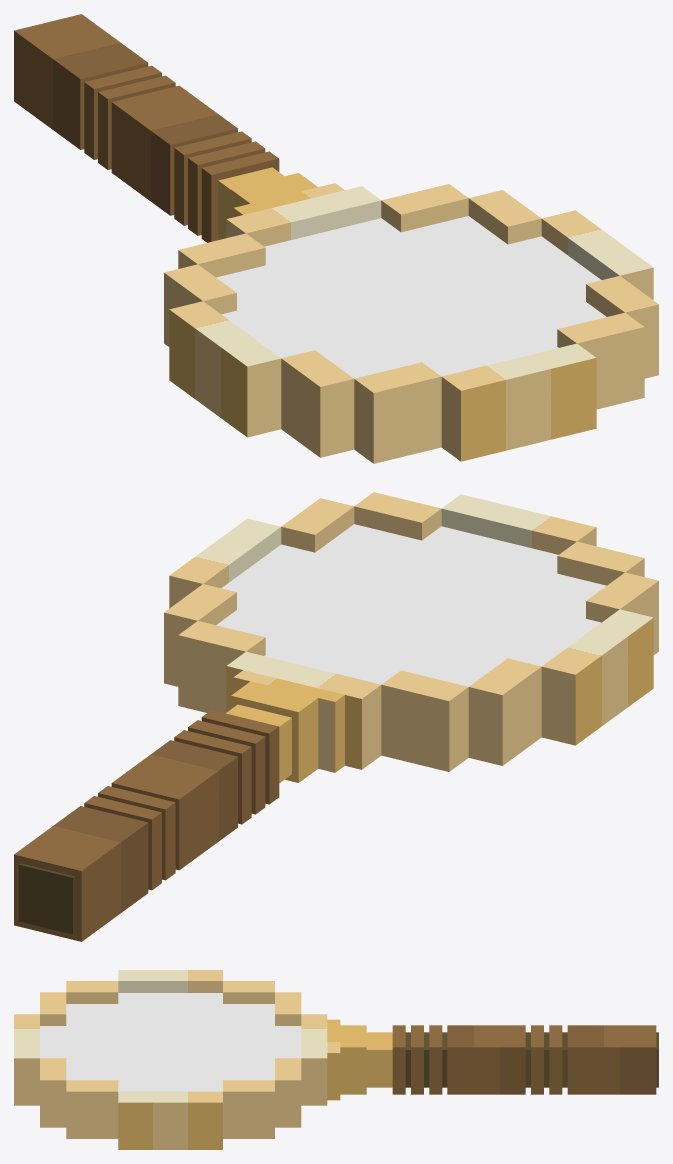
Rendered from magnifying_glass.gltf.
The picture shows the model from 3 angles, top to bottom: view 1: azimuth 30°, elevation 25°; view 2: azimuth 150°, elevation 25°; view 3: azimuth 270°, elevation 25°; orthographic projection. The views are drawn at different scales.
Visible parts, largest first — view 1: cube (×26); view 2: cube (×27); view 3: cube (×28).
Part boxes in pixels (x1,y1,x2,y2): cube (×26): (14,14,658,463); cube (×27): (14,492,658,941); cube (×28): (14,970,658,1149).
Size of the model in its own units: 0.375 by 0.0625 by 0.7719.
Materials: 4 (4 with a texture image).
